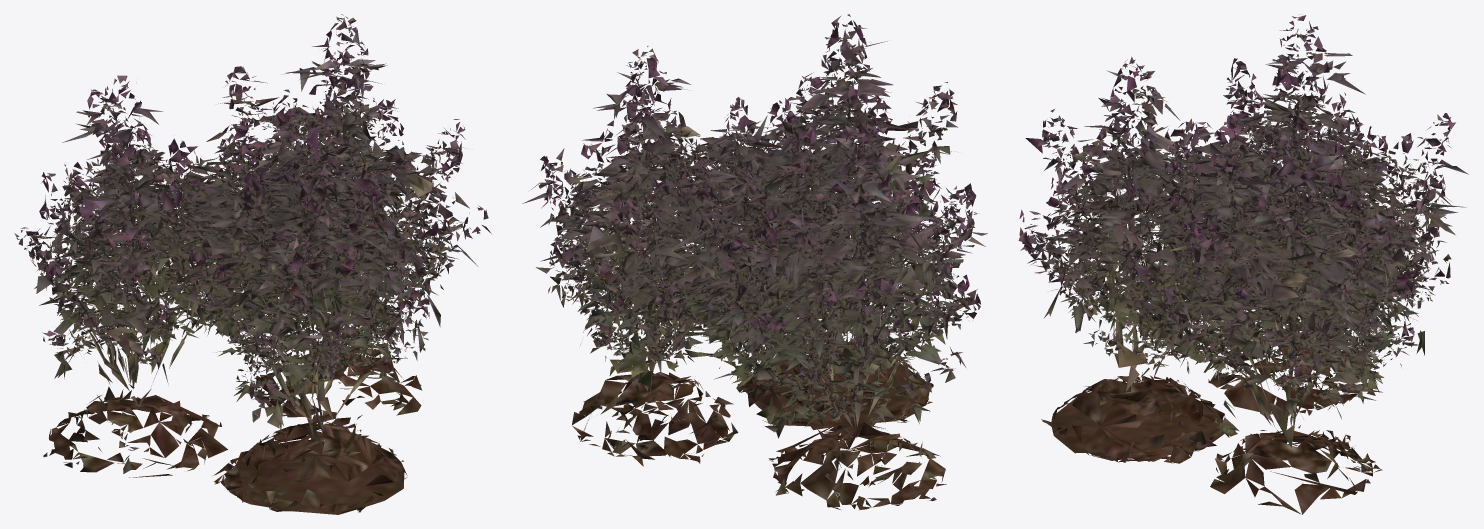
Rendered from purple_bloom_grove.glb.
3 views of the same model, side by side, from view 1: azimuth 30°, elevation 25°; view 2: azimuth 150°, elevation 25°; view 3: azimuth 270°, elevation 25° (orthographic). The views are drawn at different scales.
Visible parts, largest first — view 1: Mesh_0; view 2: Mesh_0; view 3: Mesh_0.
Part boxes in pixels (box(x1,y1,x2,y2)): Mesh_0: box(14, 14, 491, 514); Mesh_0: box(522, 14, 987, 510); Mesh_0: box(1018, 14, 1468, 514).
Bounding box in the file's own units: 1.19 × 1.09 × 1.19.
1 material, 1 textured.
